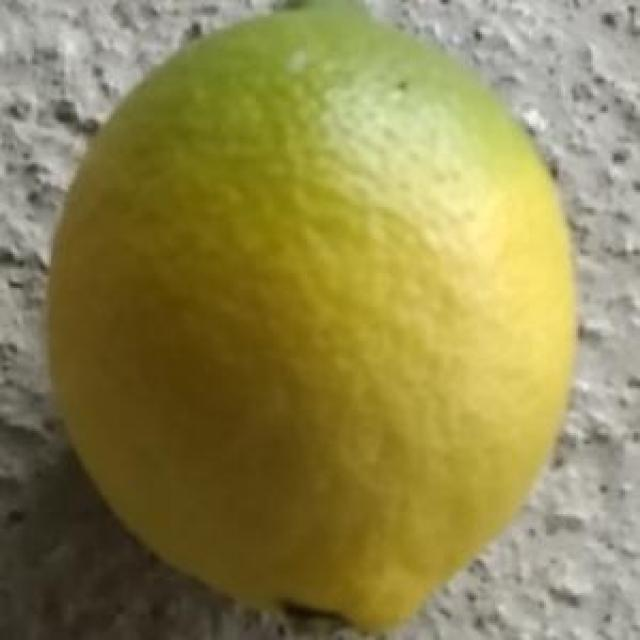lemon: (44, 4, 572, 627)
